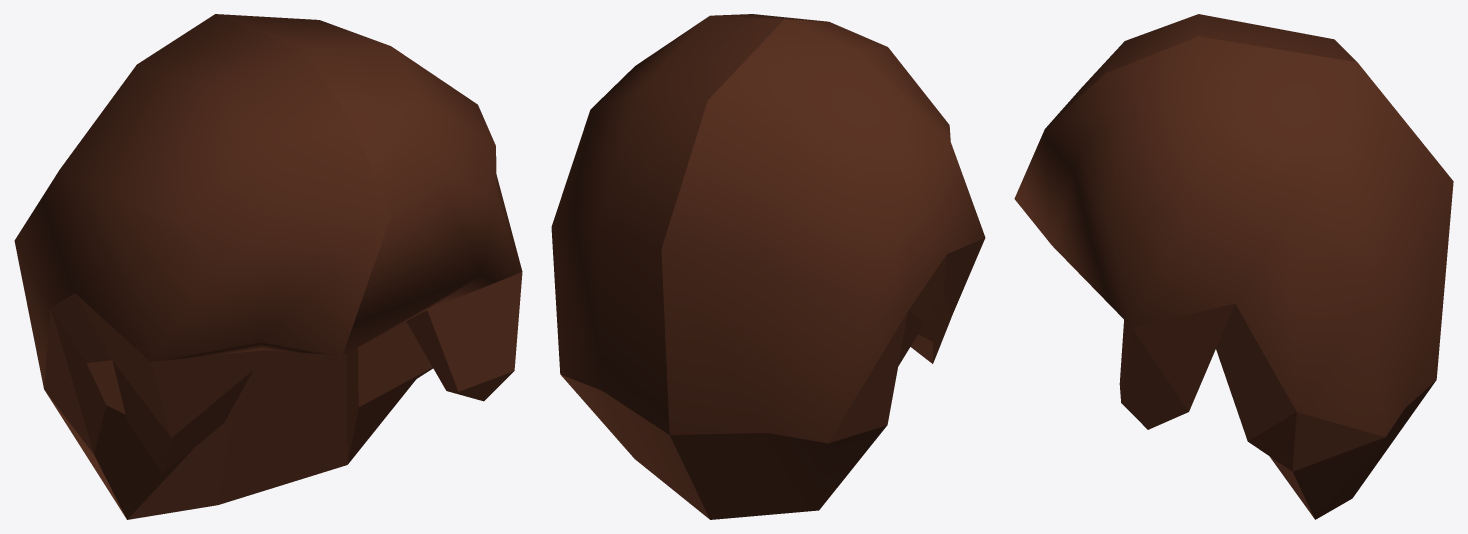
The model's file is HairMediumLightBrown.fbx.
The picture shows the model from 3 angles, left to right: view 1: azimuth 30°, elevation 25°; view 2: azimuth 150°, elevation 25°; view 3: azimuth 270°, elevation 25°; orthographic projection. The views are drawn at different scales.
Visible parts, largest first — view 1: HairMediumLightBrown; view 2: HairMediumLightBrown; view 3: HairMediumLightBrown.
Boxes of the visible parts, x1,y1,x2,y2 form: HairMediumLightBrown: (14,14,522,519); HairMediumLightBrown: (551,14,985,519); HairMediumLightBrown: (1014,14,1453,519).
Bounding box in the file's own units: 54.2 × 67.38 × 58.05.
